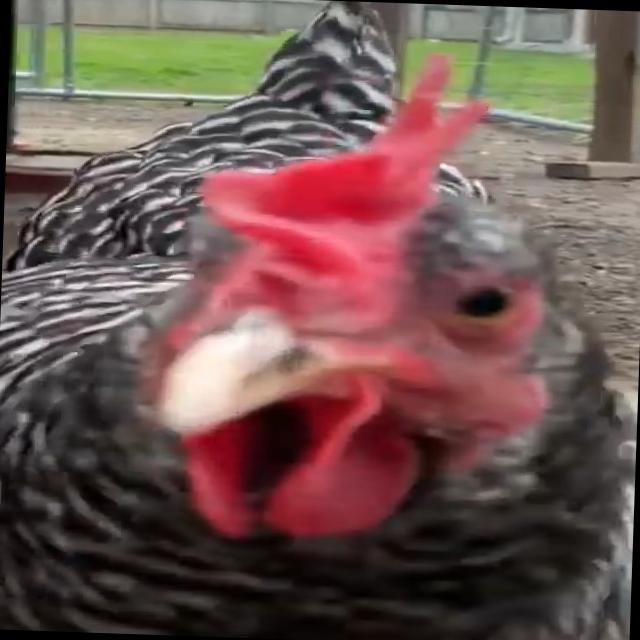menacing: (0, 0, 619, 630)
